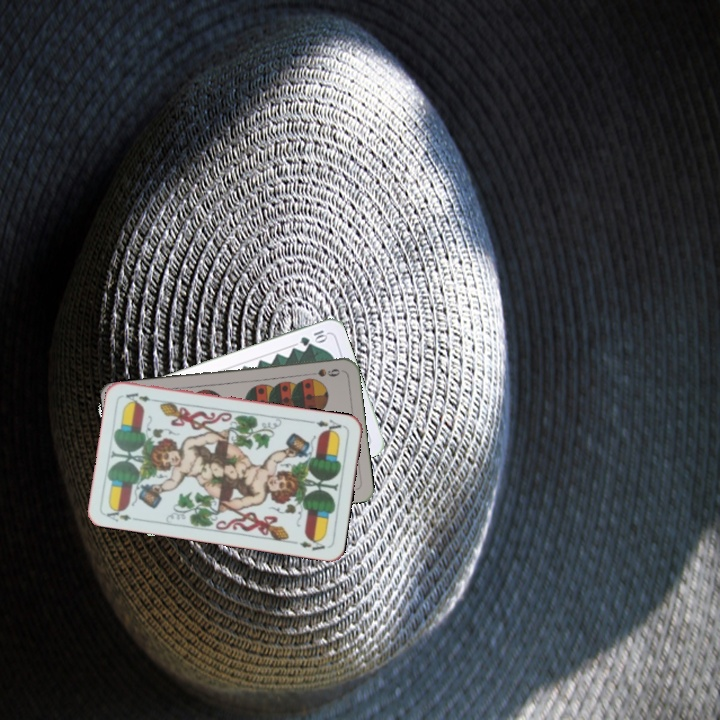EA: (102, 503, 142, 524), (306, 416, 344, 436)
G10: (296, 326, 330, 348)
S9: (303, 365, 343, 379)
